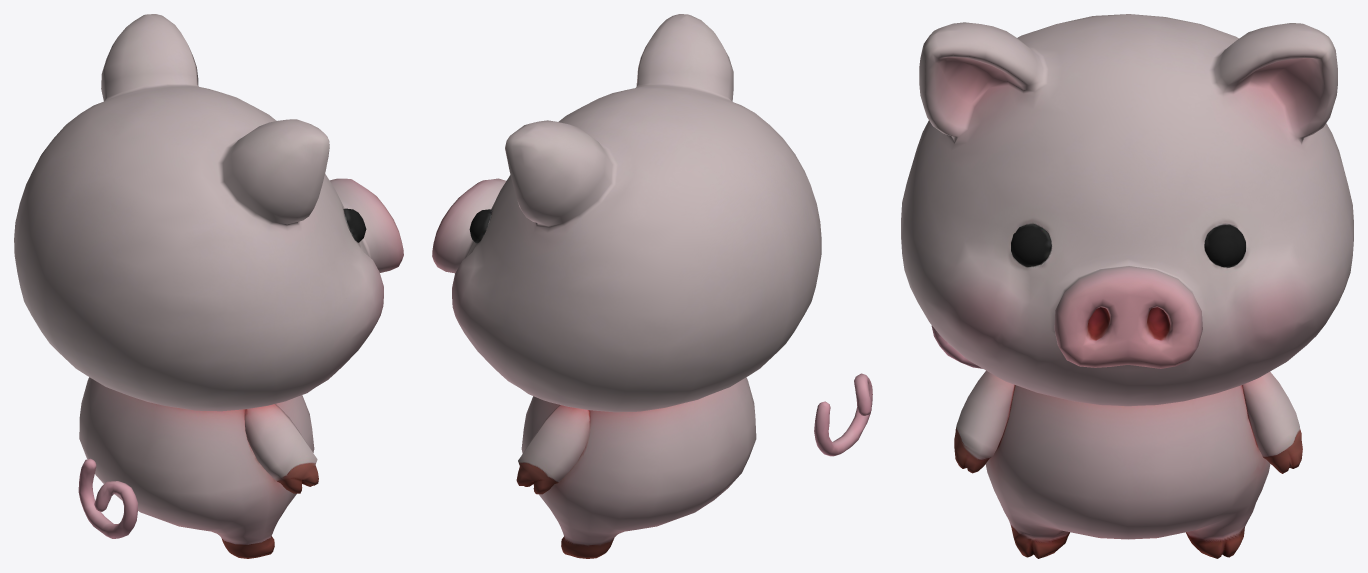
The model's file is pig.glb.
The picture shows the model from 3 angles, left to right: view 1: azimuth 30°, elevation 25°; view 2: azimuth 150°, elevation 25°; view 3: azimuth 270°, elevation 25°; orthographic projection. The views are drawn at different scales.
Visible parts, largest first — view 1: tripo_node_07edaa90-2639-4667-bead-b2972a4256cd; view 2: tripo_node_07edaa90-2639-4667-bead-b2972a4256cd; view 3: tripo_node_07edaa90-2639-4667-bead-b2972a4256cd.
Part boxes in pixels (bbox=[...]): tripo_node_07edaa90-2639-4667-bead-b2972a4256cd: bbox=[14, 14, 403, 558]; tripo_node_07edaa90-2639-4667-bead-b2972a4256cd: bbox=[432, 14, 872, 558]; tripo_node_07edaa90-2639-4667-bead-b2972a4256cd: bbox=[901, 14, 1353, 558].
Bounding box in the file's own units: 0.8184 × 0.998 × 0.7793.
1 material, 1 textured.
